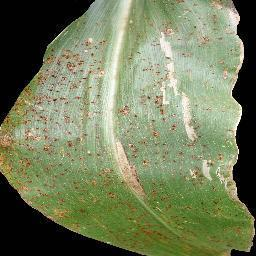Corn_Common_Rust: (153, 0, 254, 256), (0, 37, 107, 239), (107, 15, 151, 256)
